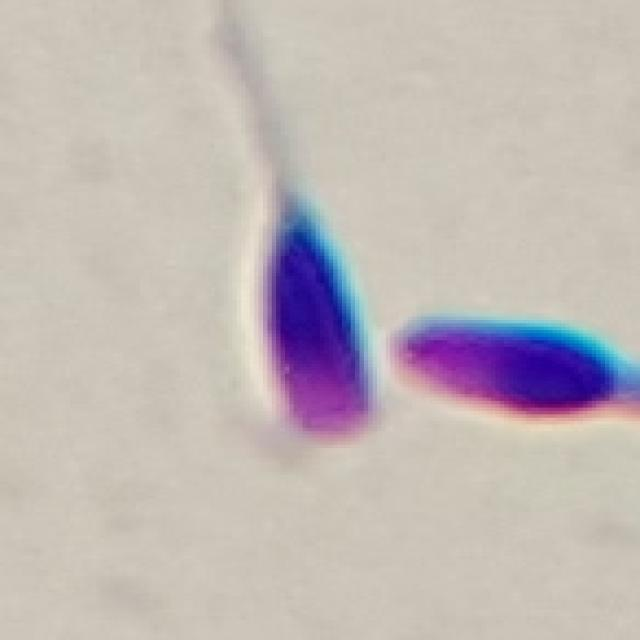abnormal sperm: (203, 10, 394, 450)
